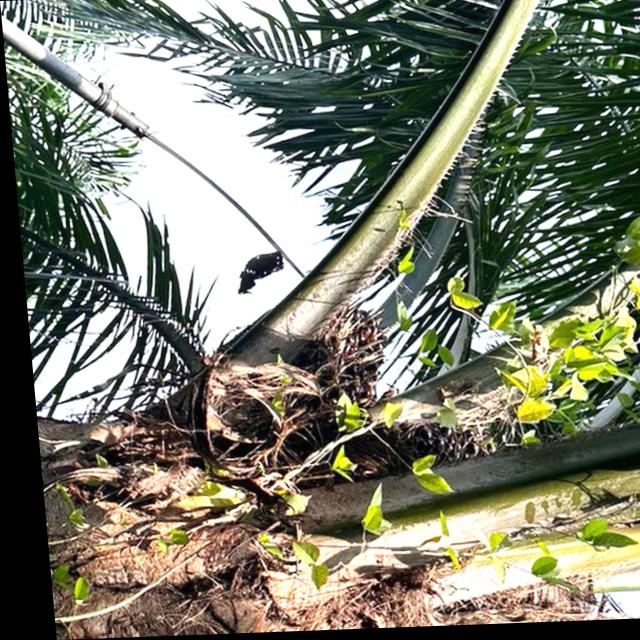almost: (257, 302, 396, 436)
